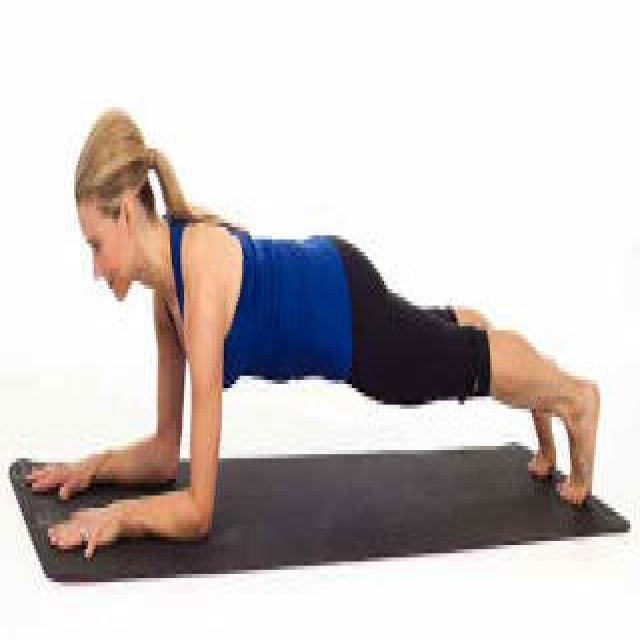yoga-pose plank: (35, 92, 604, 551)
